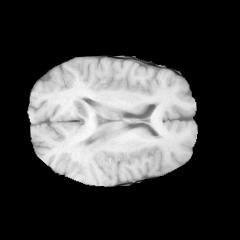glioma: (72, 99, 115, 158)
